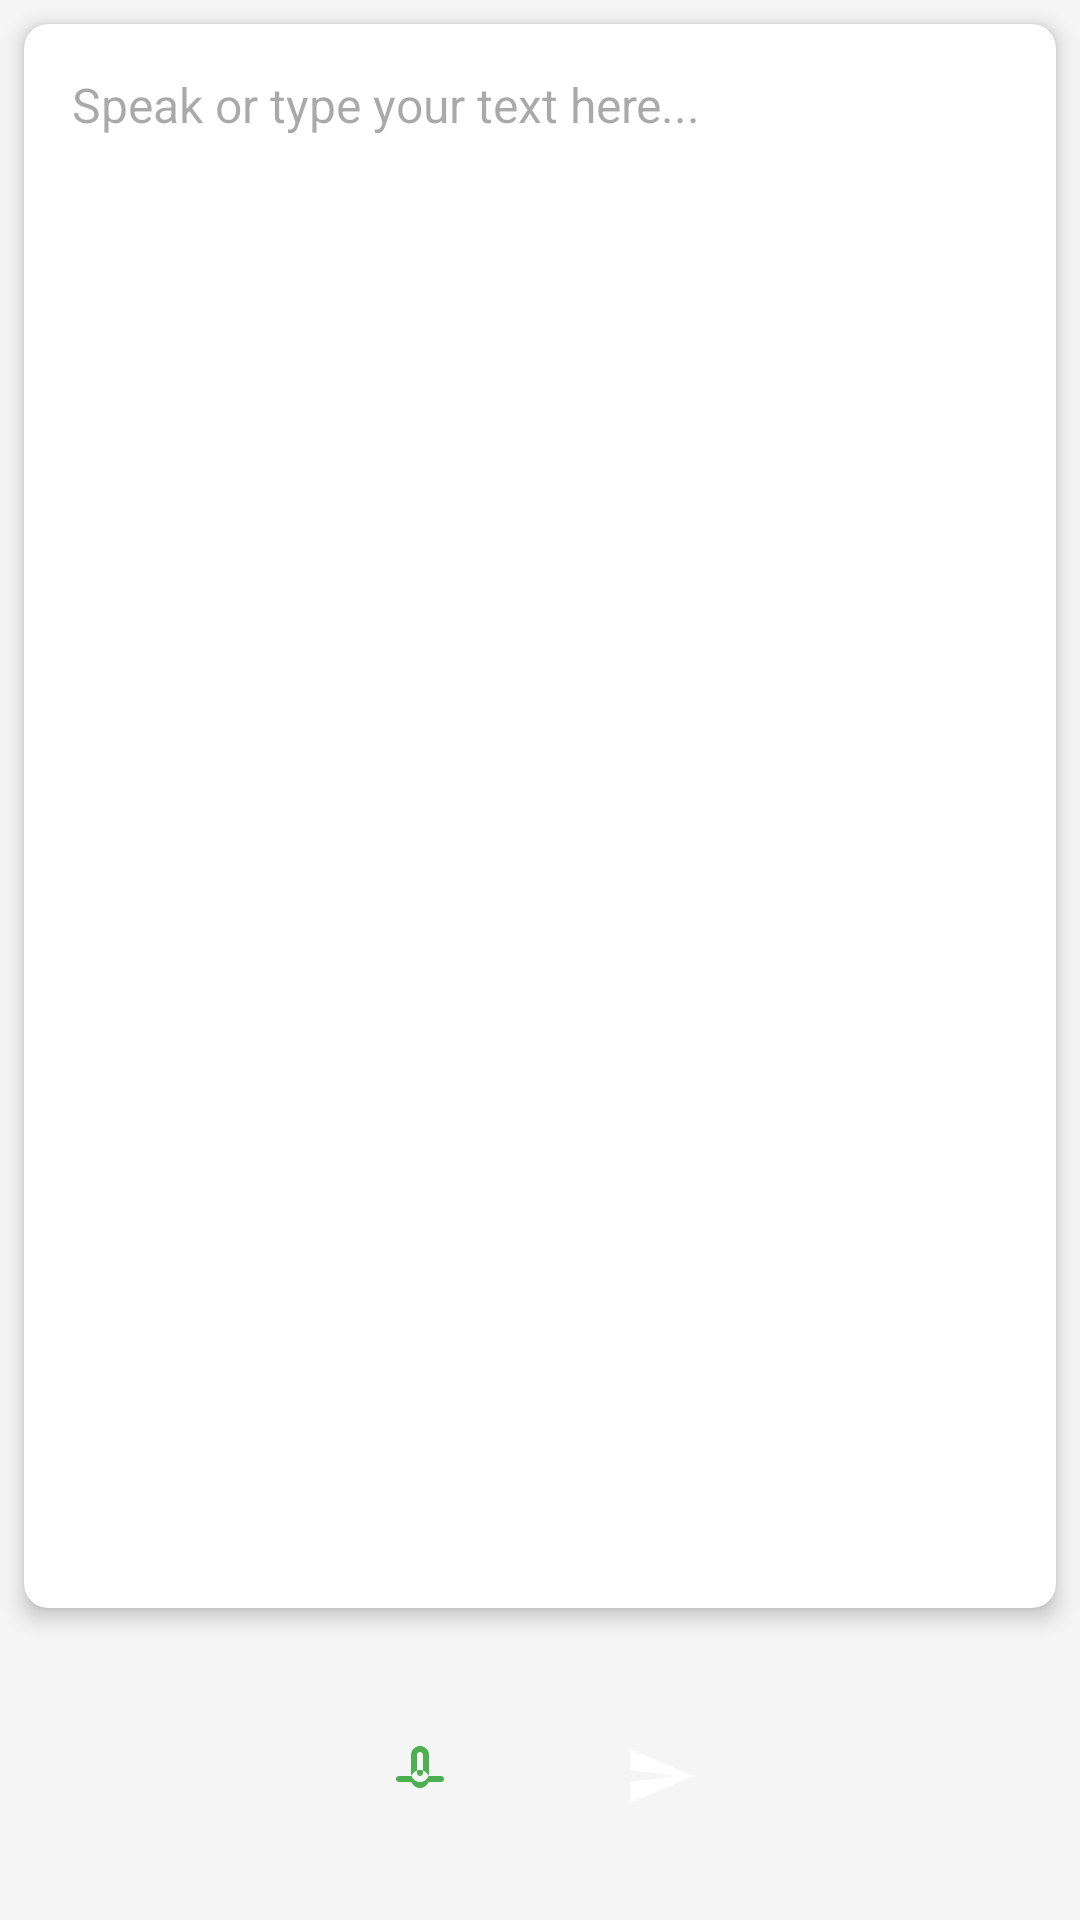

Named icons in this screenshot (1080 x 1920) and their bounding boxes, (x1, y1, x2, y2):
Start voice recording: (396, 1746, 444, 1788)
